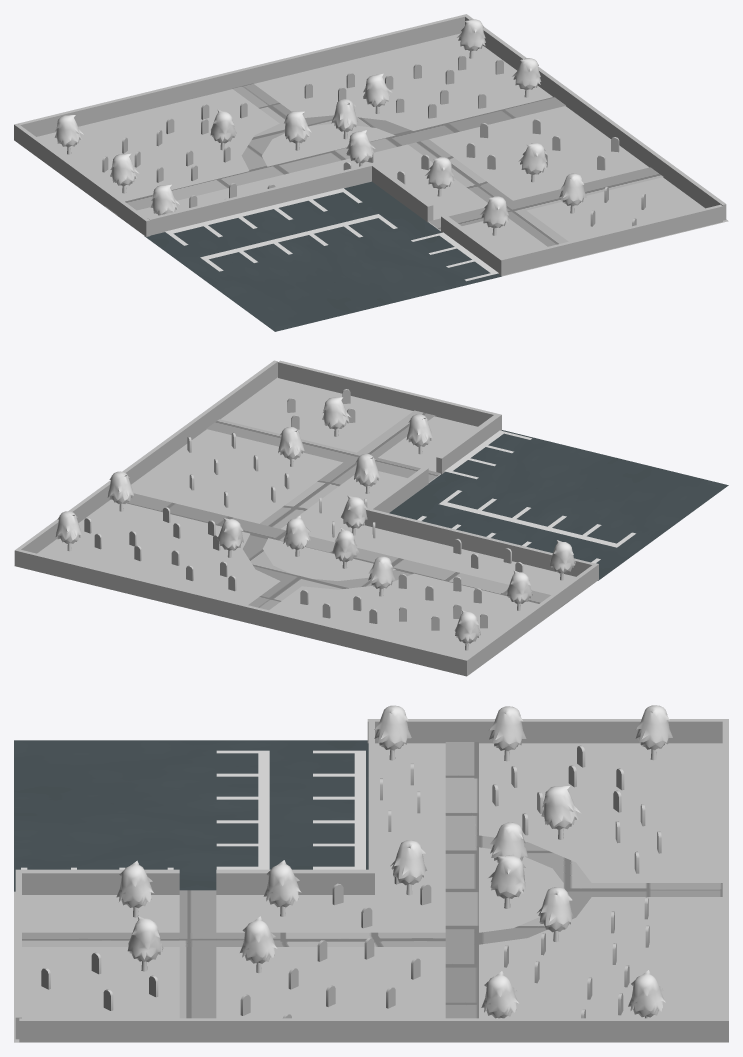
File: tile_poi_cemetery_6x6_c.fbx
3 views of the same model, one above another, from view 1: azimuth 30°, elevation 25°; view 2: azimuth 150°, elevation 25°; view 3: azimuth 270°, elevation 25° (orthographic). The views are drawn at different scales.
Visible parts, largest first — view 1: tile_poi_cemetery_6x6_c; view 2: tile_poi_cemetery_6x6_c; view 3: tile_poi_cemetery_6x6_c.
Part boxes in pixels (left/top/right/bottom): tile_poi_cemetery_6x6_c: left=14, top=14, right=728, bottom=331; tile_poi_cemetery_6x6_c: left=14, top=360, right=728, bottom=676; tile_poi_cemetery_6x6_c: left=14, top=705, right=728, bottom=1042.
Size of the model in its own units: 9612 by 766 by 9600.
